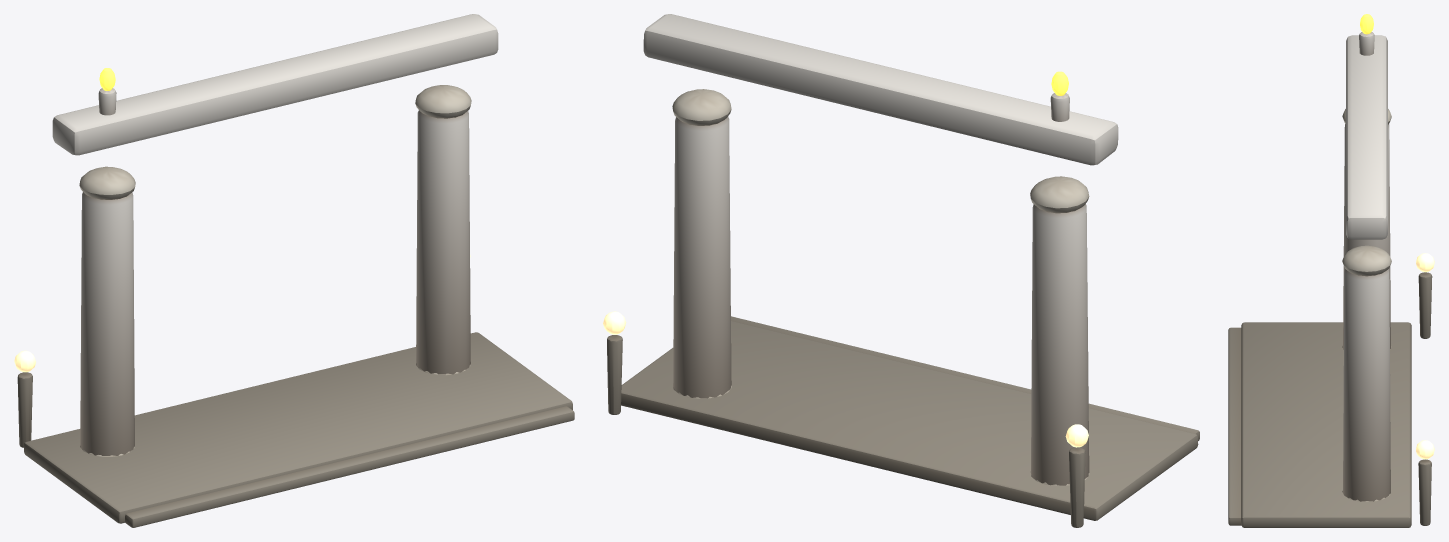
3 views of the same model, side by side, from view 1: azimuth 30°, elevation 25°; view 2: azimuth 150°, elevation 25°; view 3: azimuth 270°, elevation 25° (orthographic). The views are drawn at different scales.
Parts seen in each view (by area): view 1: gate_9162a0cf; view 2: gate_9162a0cf; view 3: gate_9162a0cf.
Boxes of the visible parts, bbox=[...] form: gate_9162a0cf: bbox=[14, 14, 574, 527]; gate_9162a0cf: bbox=[603, 14, 1199, 527]; gate_9162a0cf: bbox=[1228, 14, 1434, 527].
Size of the model in its own units: 5.73 by 4.7 by 2.55.
